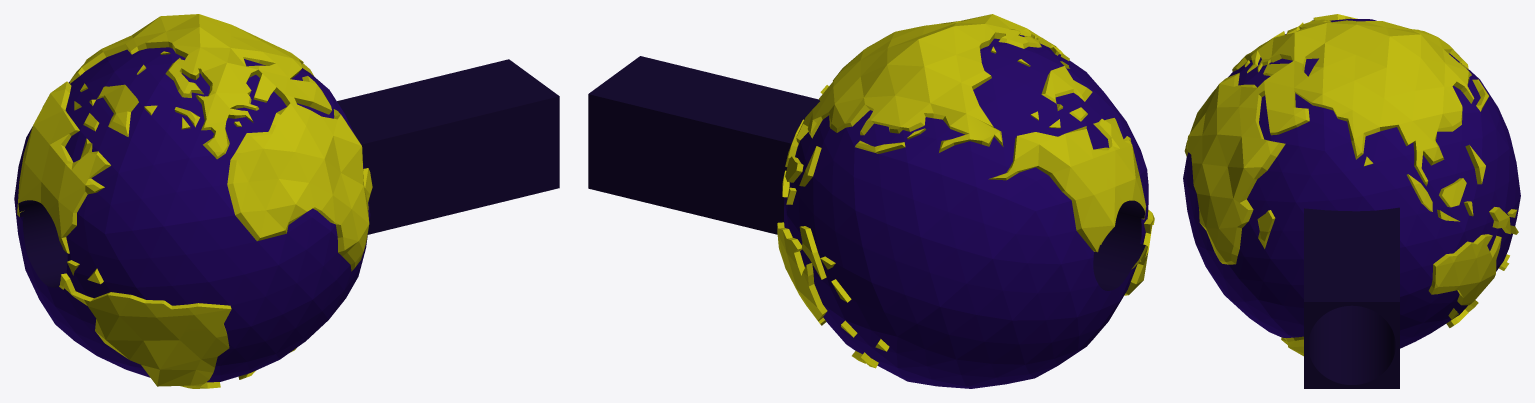
File: earthWork15.glb
3 views of the same model, side by side, from view 1: azimuth 30°, elevation 25°; view 2: azimuth 150°, elevation 25°; view 3: azimuth 270°, elevation 25° (orthographic). The views are drawn at different scales.
Parts seen in each view (by area): view 1: earth4, Cube; view 2: earth4, Cube; view 3: earth4, Cube.
Boxes of the visible parts, x1=… form: earth4: x1=14, y1=14, x2=372, y2=388; Cube: x1=337, y1=59, x2=559, y2=234; earth4: x1=777, y1=14, x2=1154, y2=388; Cube: x1=588, y1=56, x2=819, y2=234; earth4: x1=1183, y1=14, x2=1520, y2=356; Cube: x1=1304, y1=207, x2=1399, y2=388.
Size of the model in its own units: 138 by 90.26 by 85.11.
